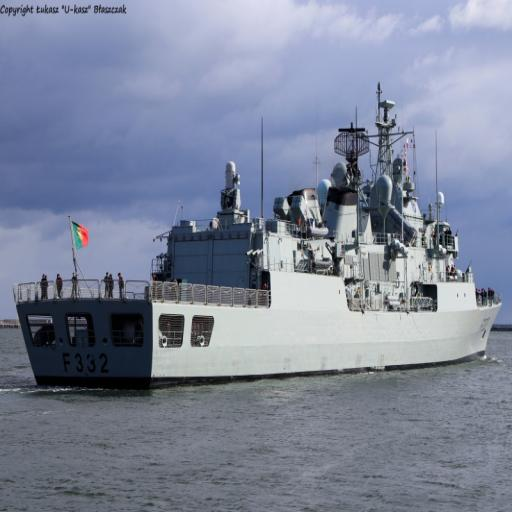Fragata: (15, 71, 505, 401)
